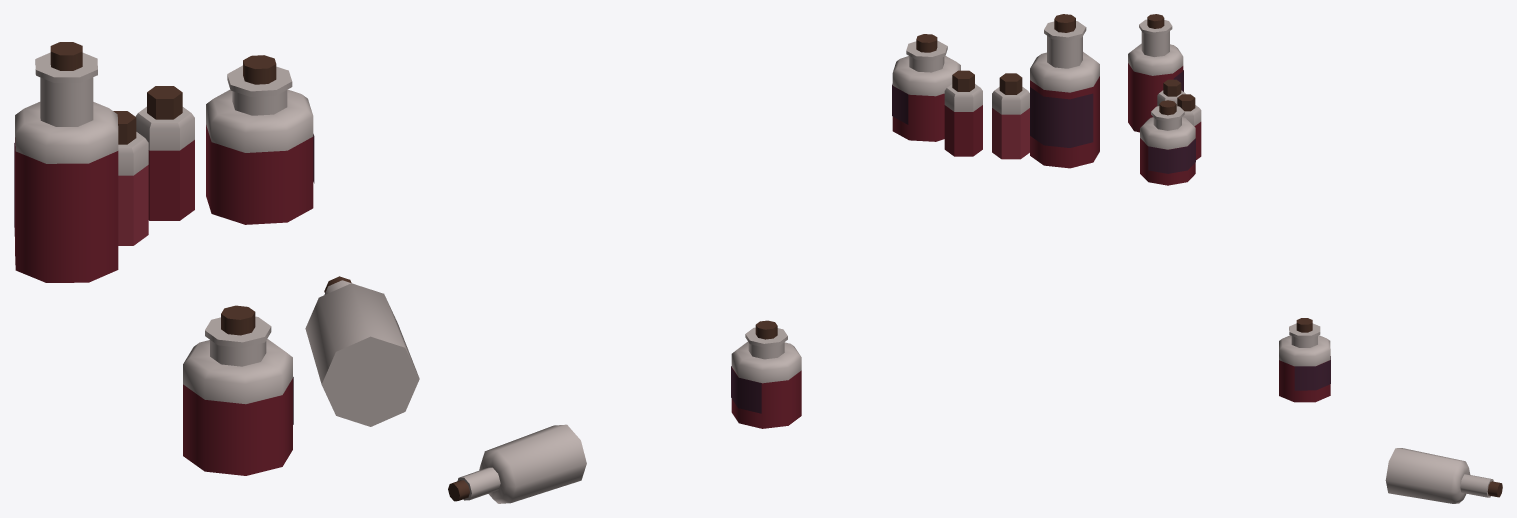
The model's file is medication.fbx.
3 renders of one model, left to right at view 1: azimuth 30°, elevation 25°; view 2: azimuth 150°, elevation 25°; view 3: azimuth 270°, elevation 25°, orthographic. The views are drawn at different scales.
Visible parts, largest first — view 1: clinic4; view 2: clinic4; view 3: clinic4.
Part boxes in pixels (x1,y1,x2,y2): clinic4: [14, 42, 419, 475]; clinic4: [448, 14, 1099, 503]; clinic4: [1128, 14, 1502, 503].
Bounding box in the file's own units: 333 × 322 × 319.
